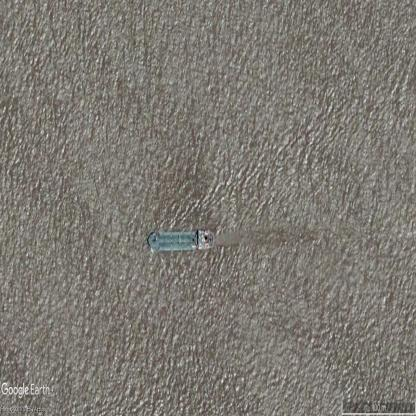ship: (146, 231, 216, 251)
